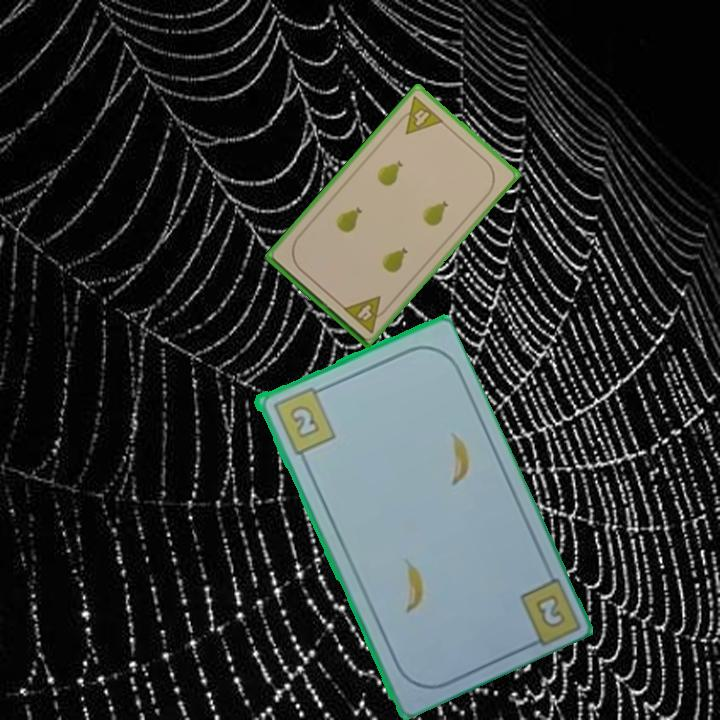2b: (268, 383, 338, 457), (531, 590, 568, 631)
4p: (392, 92, 447, 137), (339, 292, 392, 336)
